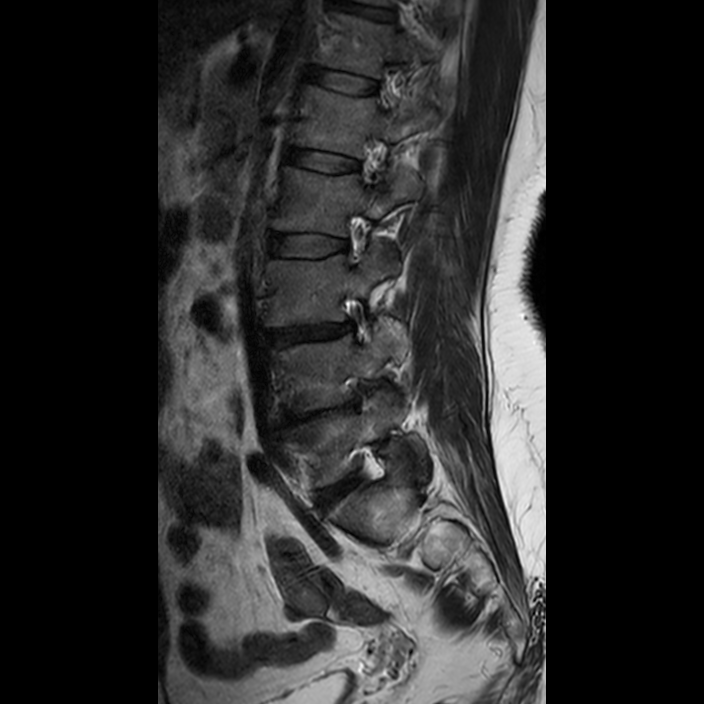RFS0: (329, 200, 379, 276), (343, 127, 394, 193)
RFS1: (327, 284, 384, 352)
